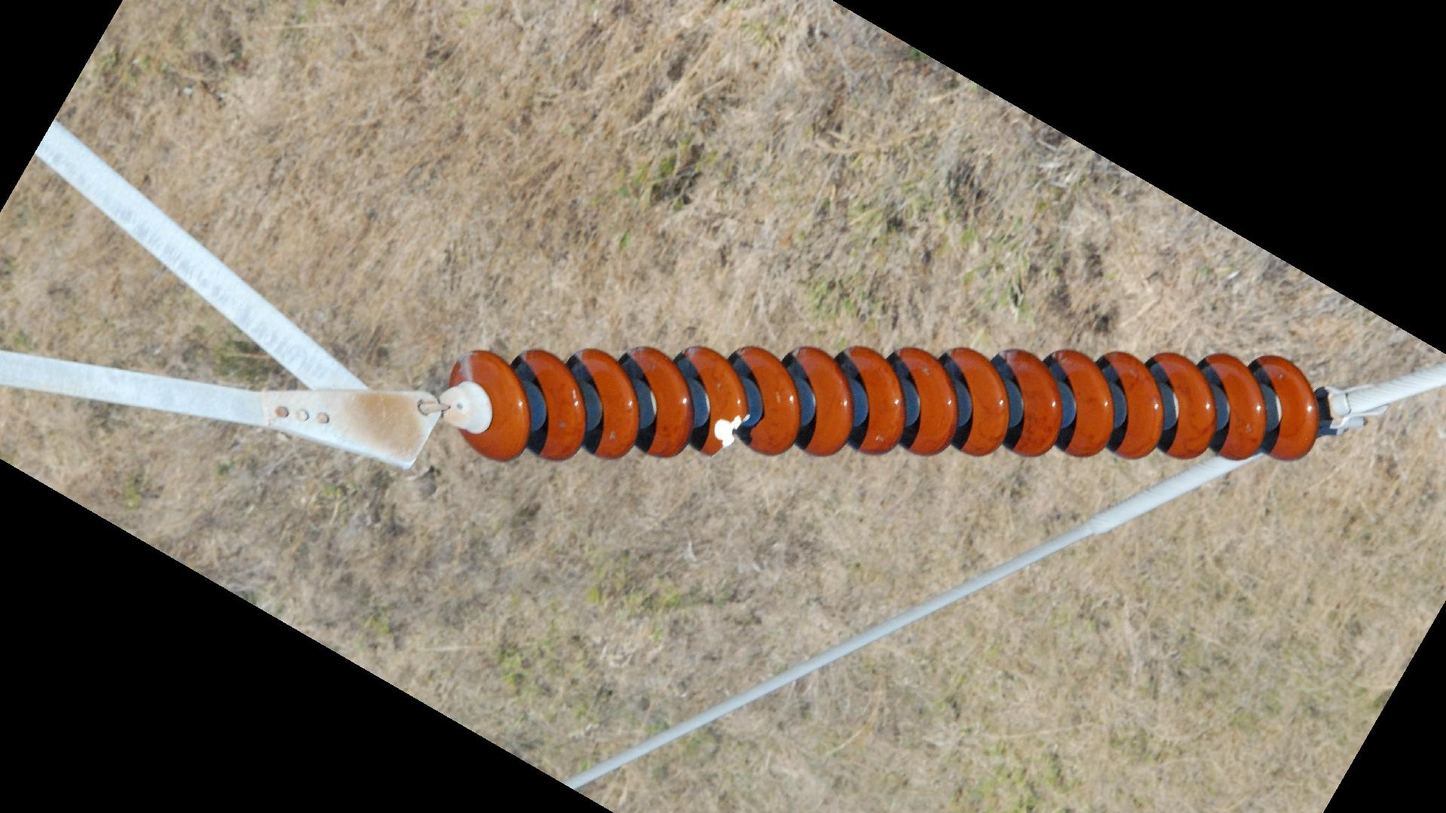insulator: (447, 338, 1328, 467)
insulator_breakage: (702, 406, 755, 464)
